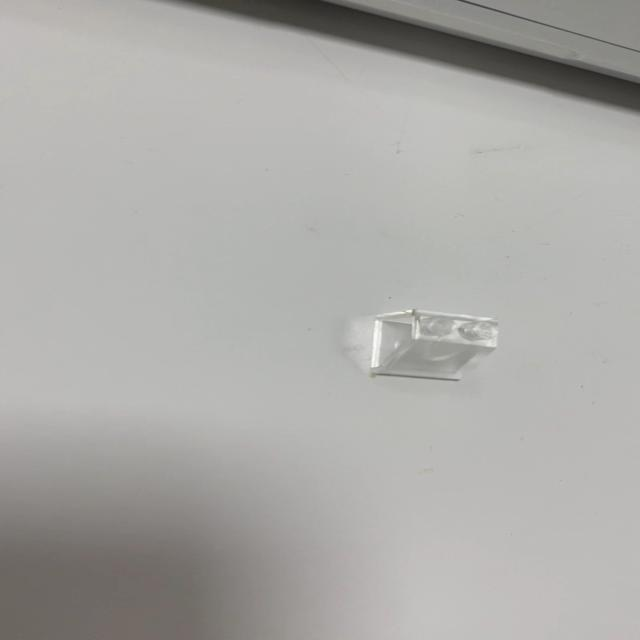P2x2x1: (367, 307, 500, 381)
